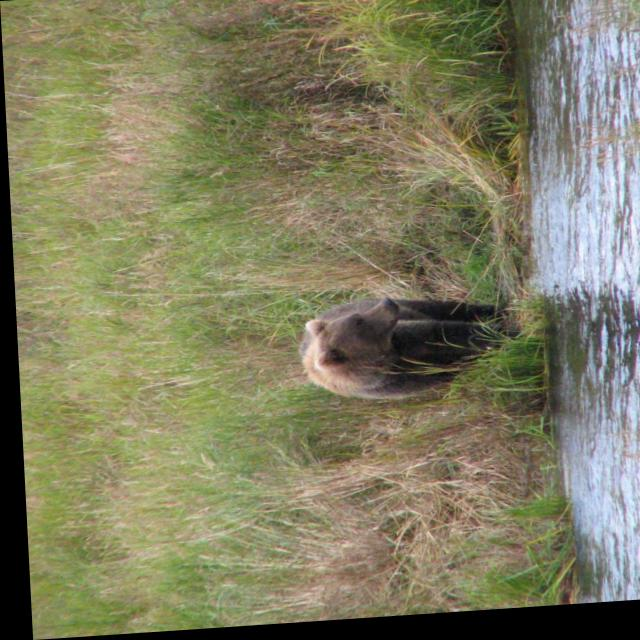bear face: (298, 294, 494, 405)
